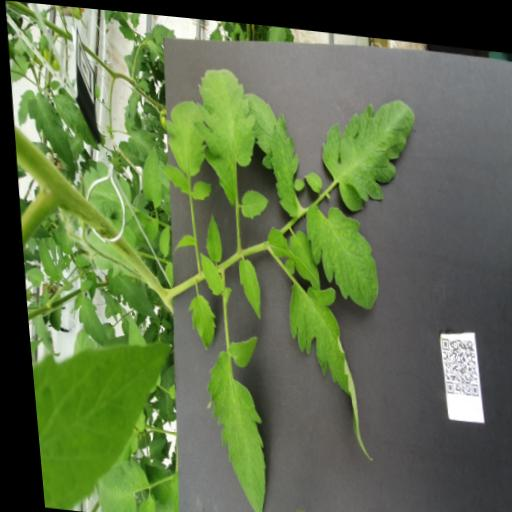Healthy: (23, 326, 177, 512), (151, 93, 210, 198), (23, 91, 72, 169), (84, 456, 147, 512), (49, 92, 98, 149), (65, 290, 101, 346), (179, 289, 212, 347), (112, 271, 153, 317), (231, 252, 257, 314), (193, 248, 219, 292), (197, 209, 219, 259), (235, 183, 266, 217), (152, 219, 168, 255), (299, 164, 319, 188), (19, 265, 39, 288)
